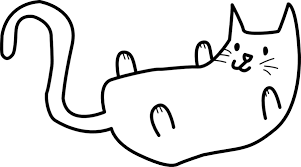cat: (1, 1, 301, 166)
